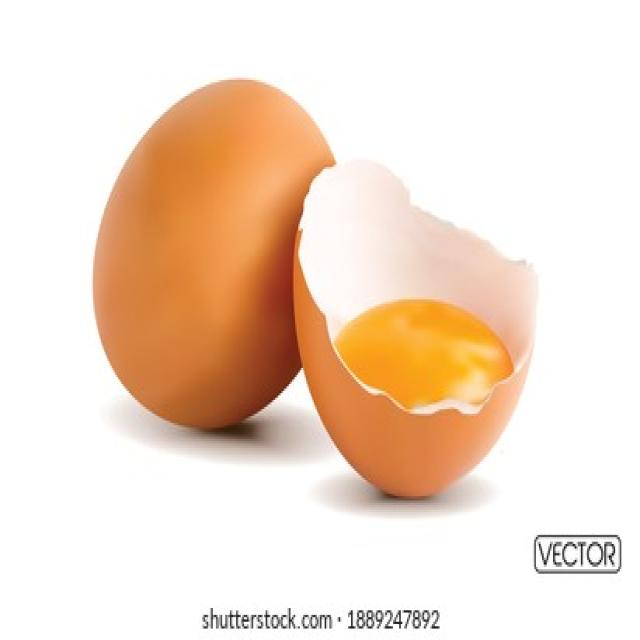Brown Egg: (81, 61, 345, 427)
